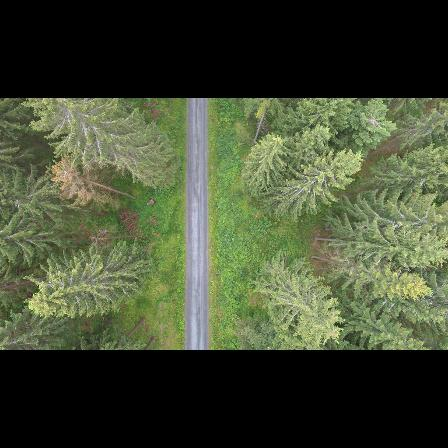Sick: (359, 104, 390, 135)
